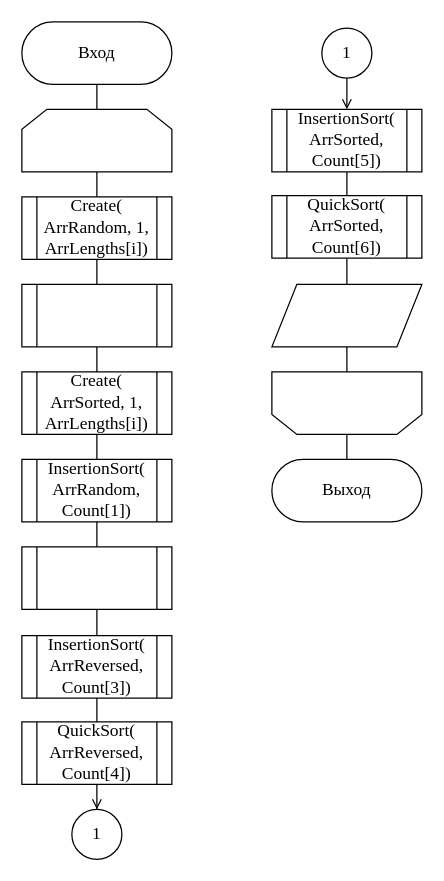
Image size: 444x881. Some labels were removed from this diagram. The shapes that lost their labels are listed below. From the top down, each one's centre as x and y in pixels, then its label:
At point 96,140: "A1 i := 1, i < 5".
At point 96,315: "Create( ArrReversed, 2, ArrLengths[i])".
At point 346,315: "Вывод Count[1..6]".
At point 346,402: "i := i + 1 A1".
At point 96,577: "QuickSort( ArrRandom, Count[2])".
